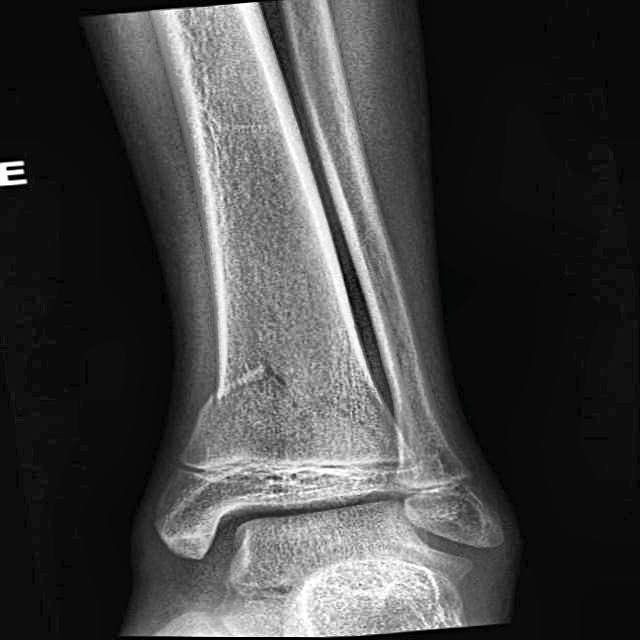Oblique Displaced: (176, 355, 354, 471)
